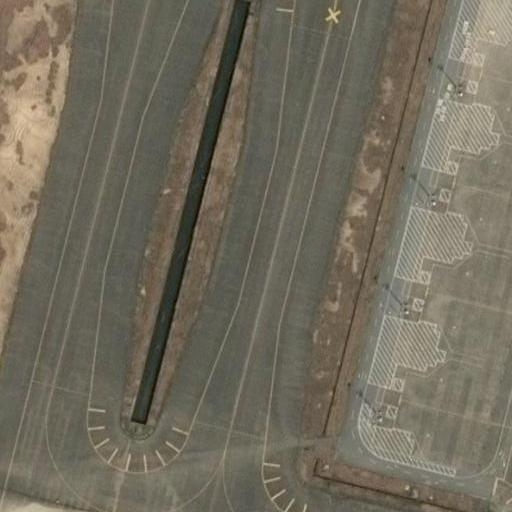Aircraft: (492, 0, 512, 19)
